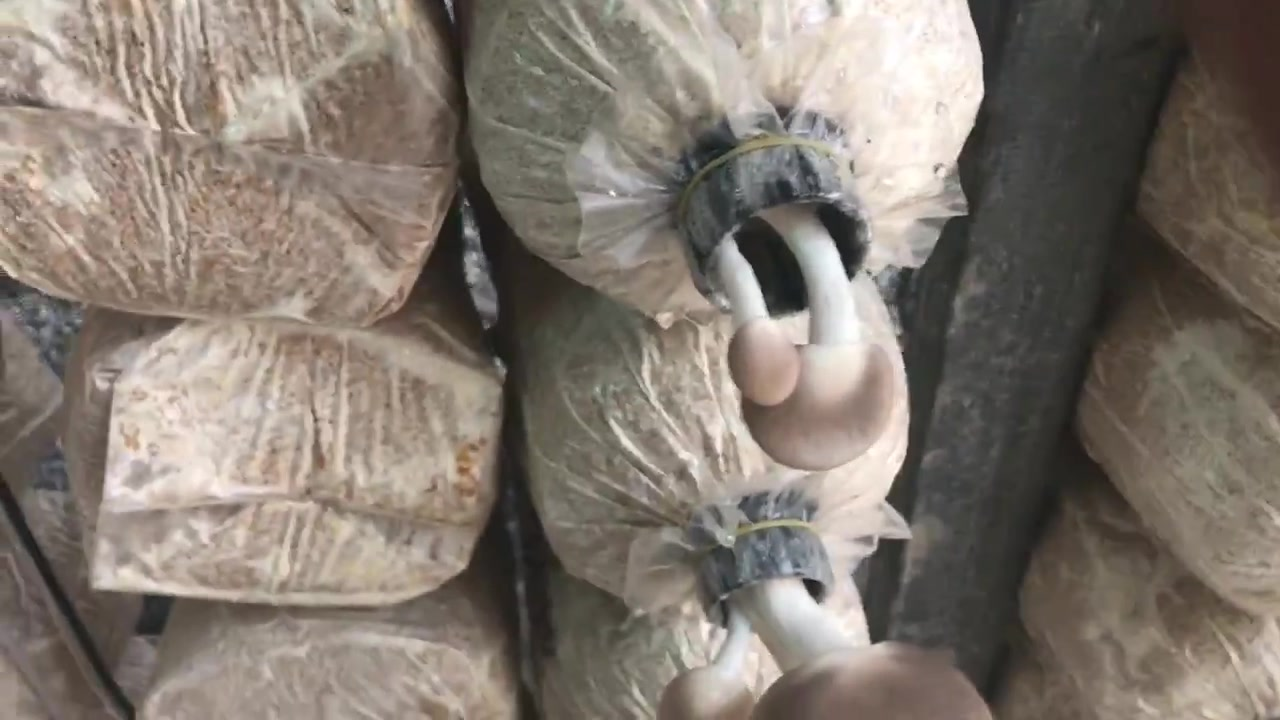nam: (690, 141, 894, 468), (657, 521, 990, 720)
